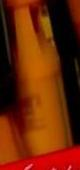cylinder: (1, 1, 80, 170)
